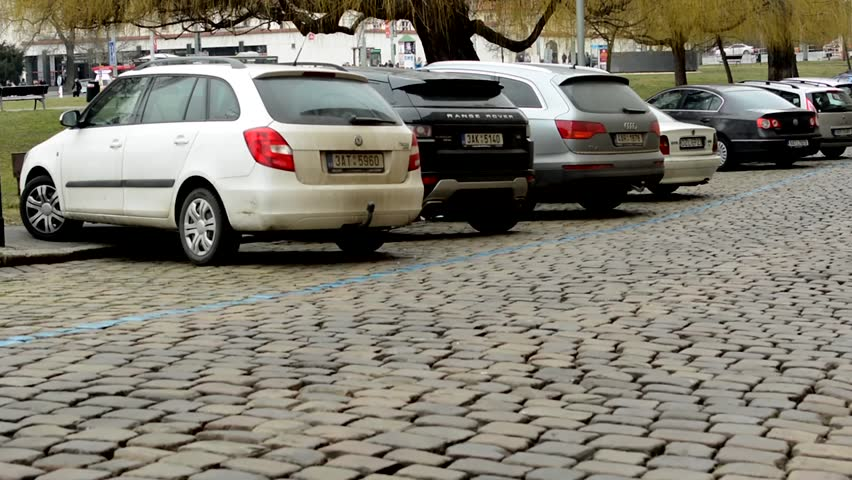car: (19, 64, 420, 261), (412, 73, 535, 232), (528, 70, 659, 213), (708, 87, 820, 166), (659, 111, 719, 196)
